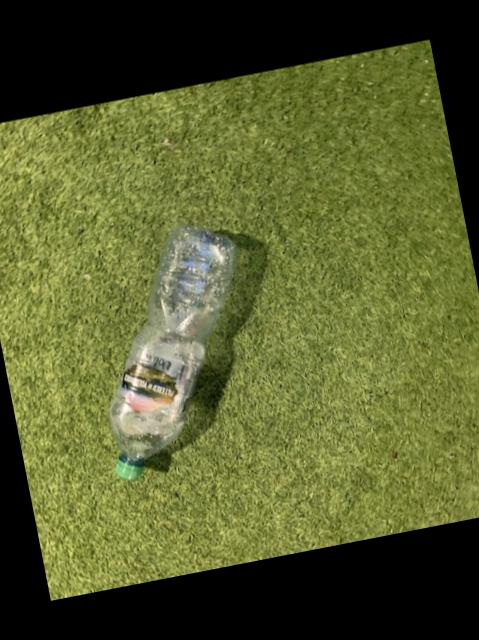plastic: (108, 227, 234, 481)
